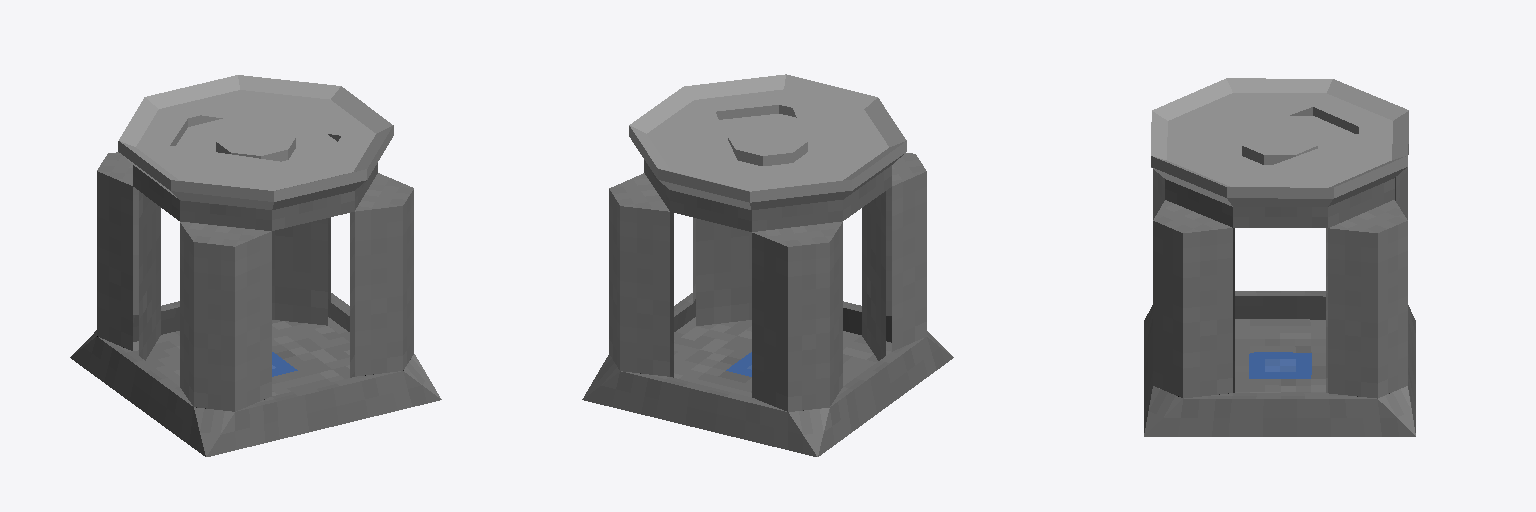
3 views of the same model, side by side, from view 1: azimuth 30°, elevation 25°; view 2: azimuth 150°, elevation 25°; view 3: azimuth 270°, elevation 25° (orthographic).
Visible parts, largest first — view 1: container_Cylinder.008, lid_Cylinder.007; view 2: container_Cylinder.008, lid_Cylinder.007; view 3: container_Cylinder.008, lid_Cylinder.007.
Part boxes in pixels (x1,y1,x2,y2): container_Cylinder.008: (70,152,441,456); lid_Cylinder.007: (118,75,393,209); container_Cylinder.008: (582,153,953,456); lid_Cylinder.007: (629,74,906,209); container_Cylinder.008: (1144,167,1415,436); lid_Cylinder.007: (1151,78,1408,206).
Size of the model in its own units: 1 by 0.997 by 1.
3 materials, 1 textured.